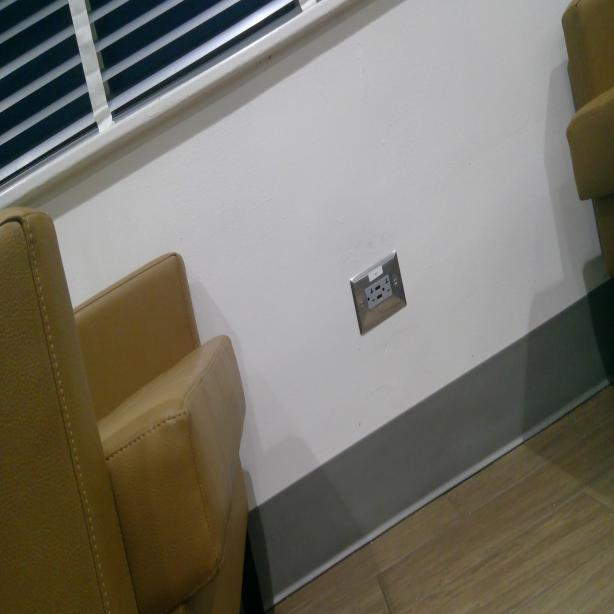typeb: (380, 276, 394, 300), (365, 286, 377, 308)
